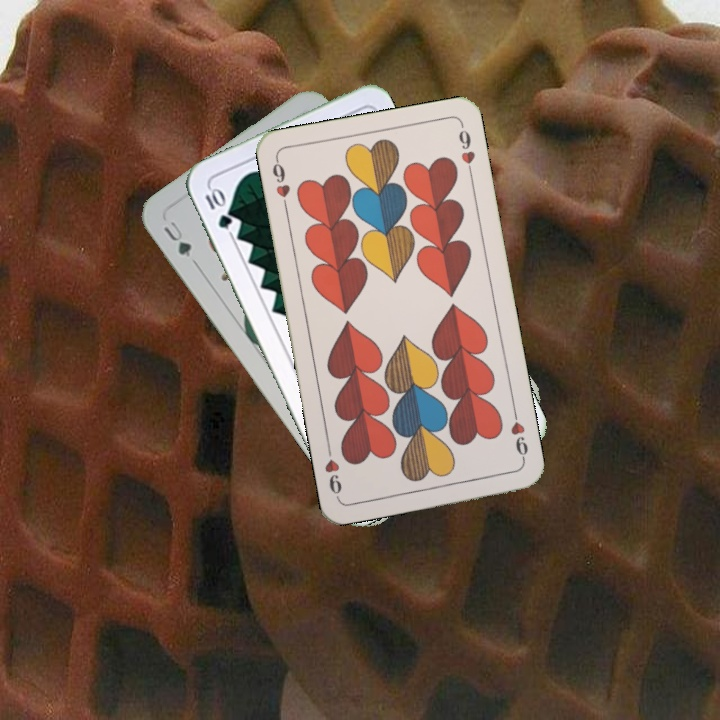G10: (201, 184, 235, 232)
GU: (159, 217, 200, 268)
H9: (506, 406, 531, 465), (268, 155, 293, 213)
